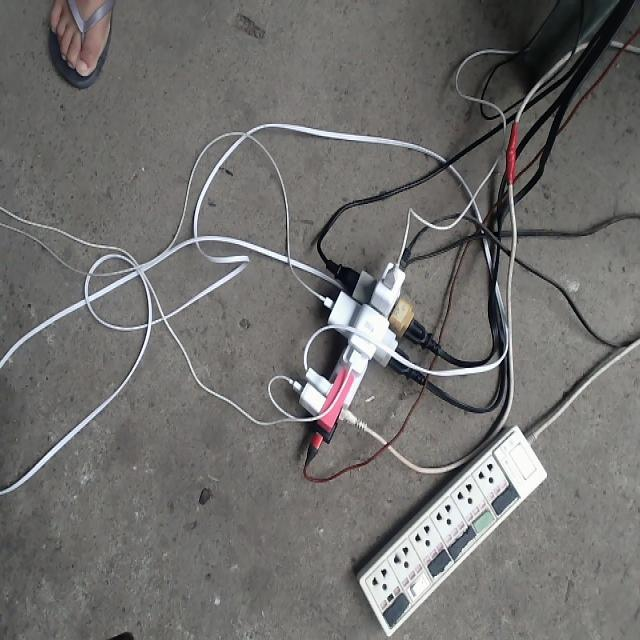-: (257, 190, 442, 506)
